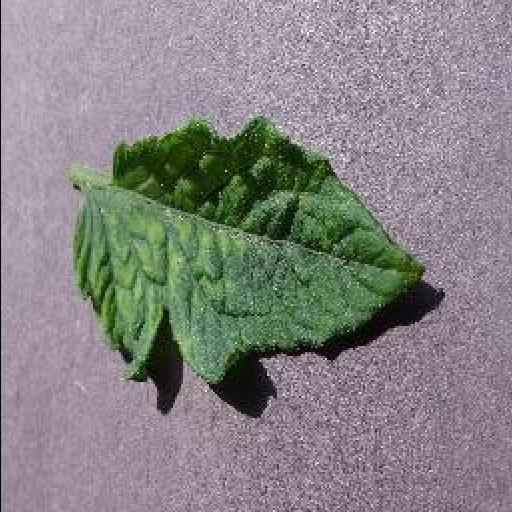disease_tomato: (72, 115, 426, 389)
